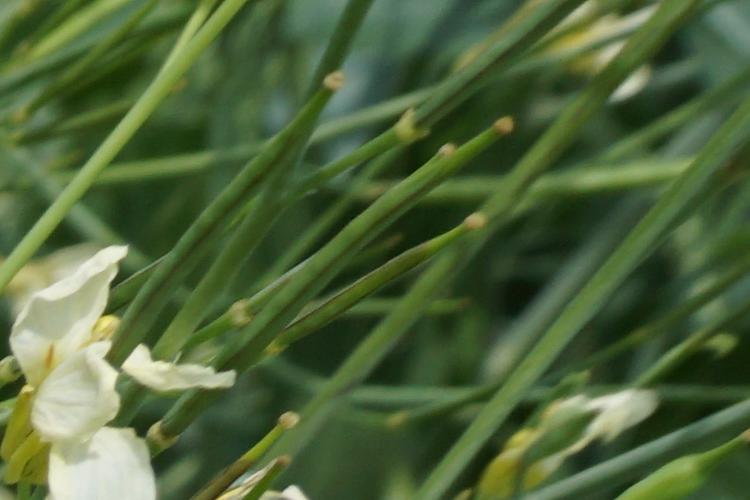pod: (237, 195, 497, 309), (187, 74, 345, 249), (328, 101, 518, 215), (140, 365, 316, 488)
white: (21, 256, 213, 473)
